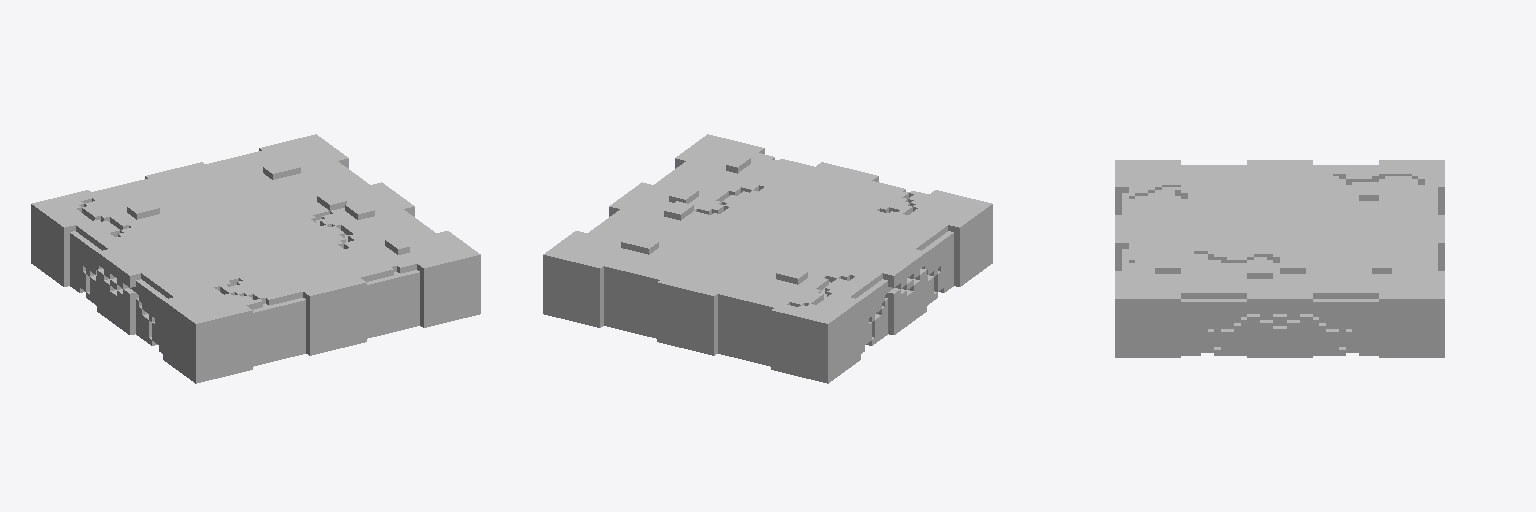
Rendered from Floo_Carpet.obj.
The picture shows the model from 3 angles: view 1: azimuth 30°, elevation 25°; view 2: azimuth 150°, elevation 25°; view 3: azimuth 270°, elevation 25°; orthographic projection.
Visible parts, largest first — view 1: Floo_Carpet; view 2: Floo_Carpet; view 3: Floo_Carpet.
Part boxes in pixels (left/top/right/bottom): Floo_Carpet: left=31, top=134, right=480, bottom=383; Floo_Carpet: left=543, top=134, right=992, bottom=383; Floo_Carpet: left=1115, top=160, right=1444, bottom=357.
Bounding box in the file's own units: 5 × 1.1 × 5.